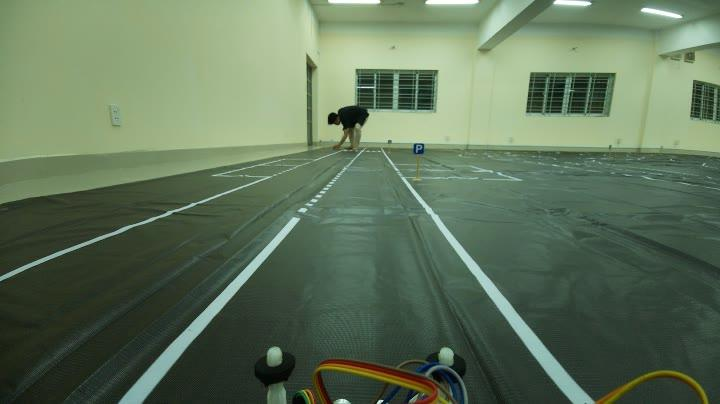parking: (411, 140, 426, 156)
